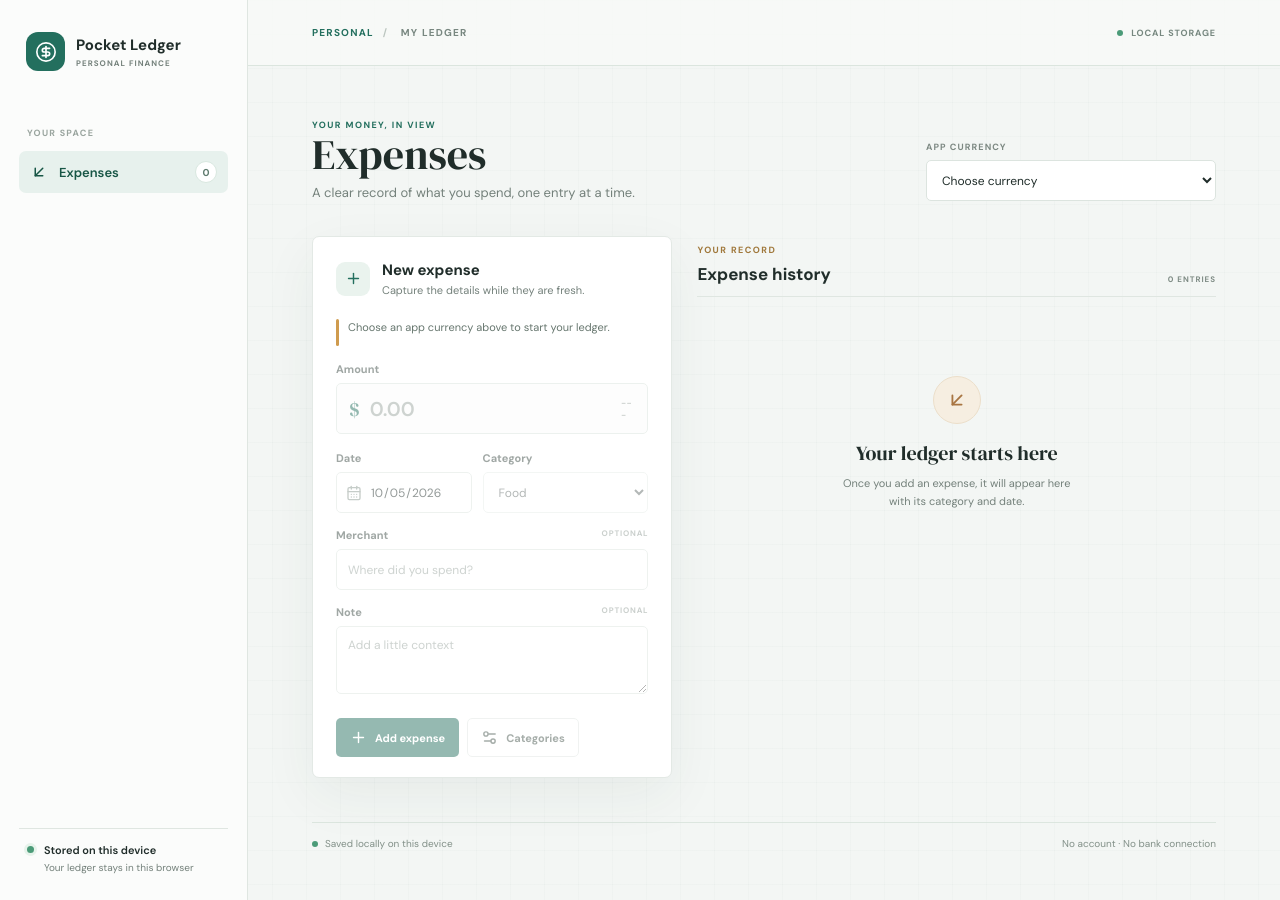
it: expense capture controls › saves an expense when merchant and note are omitted
Select "US Dollar (USD)" in the dropdown labelled "APP CURRENCY" at [1071, 181], box [926,160,1216,201]
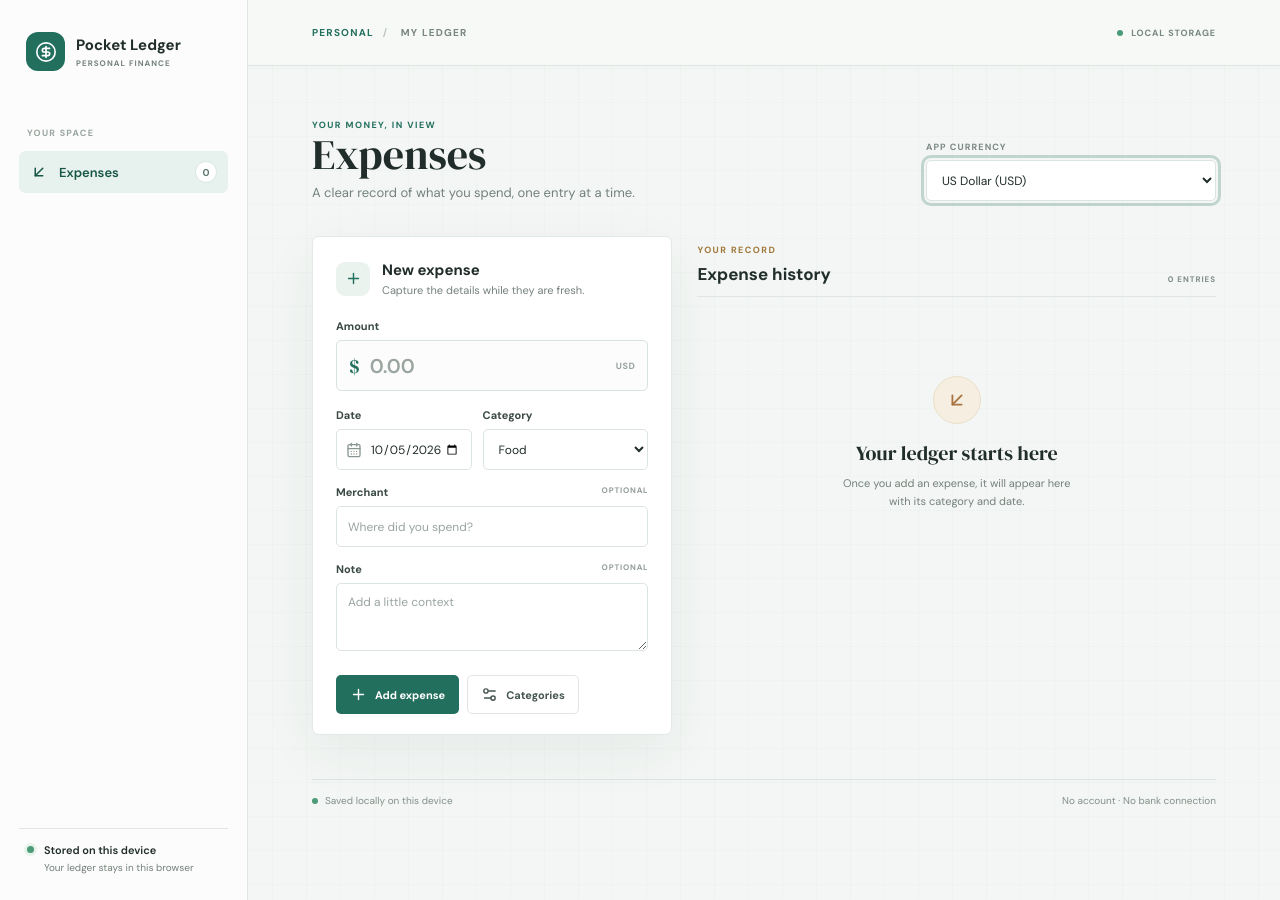
Type "3.00" into the number field labelled "Amount" at [488, 366], box [370,342,606,389]
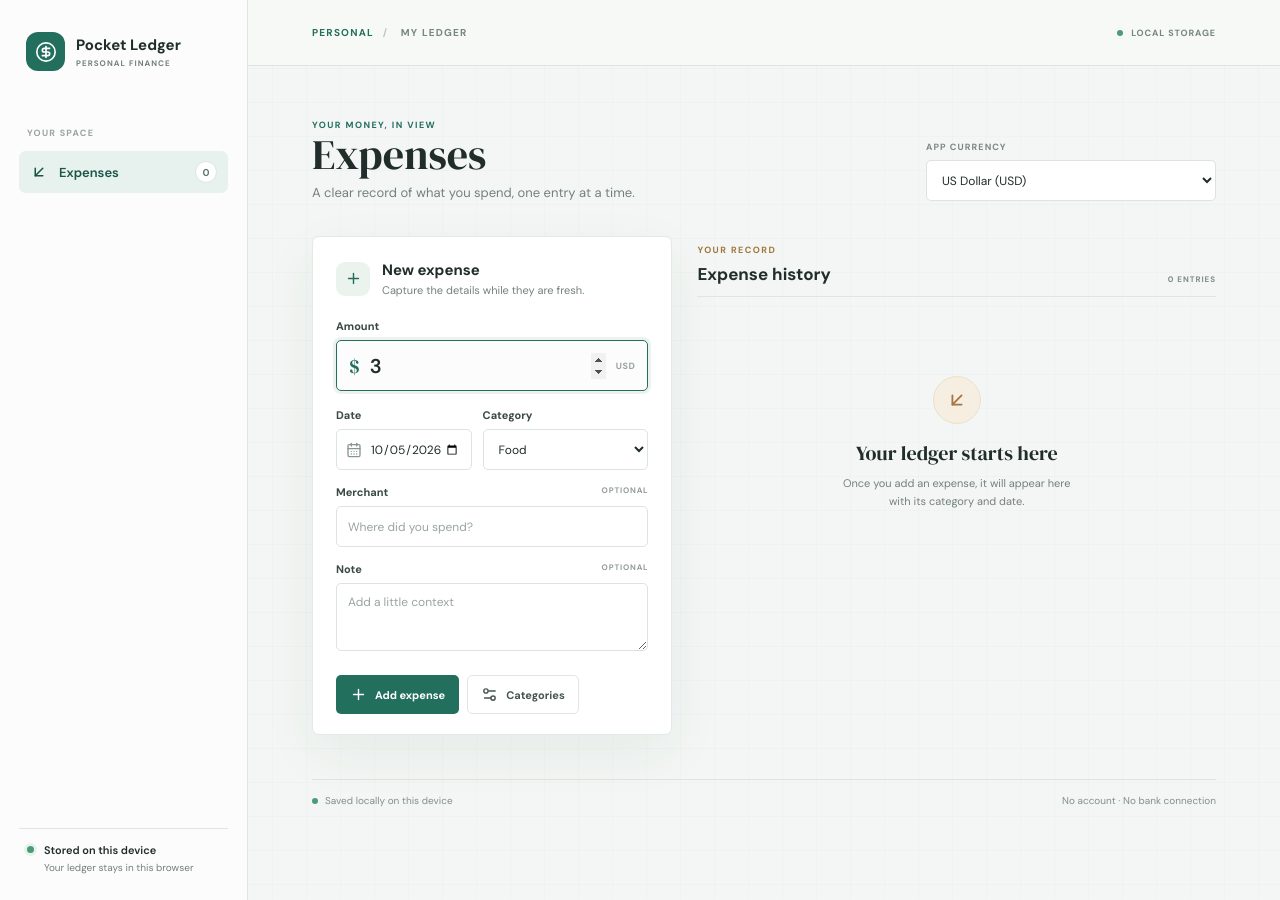
Click the button "Add expense" at [398, 695], box [336,675,459,714]
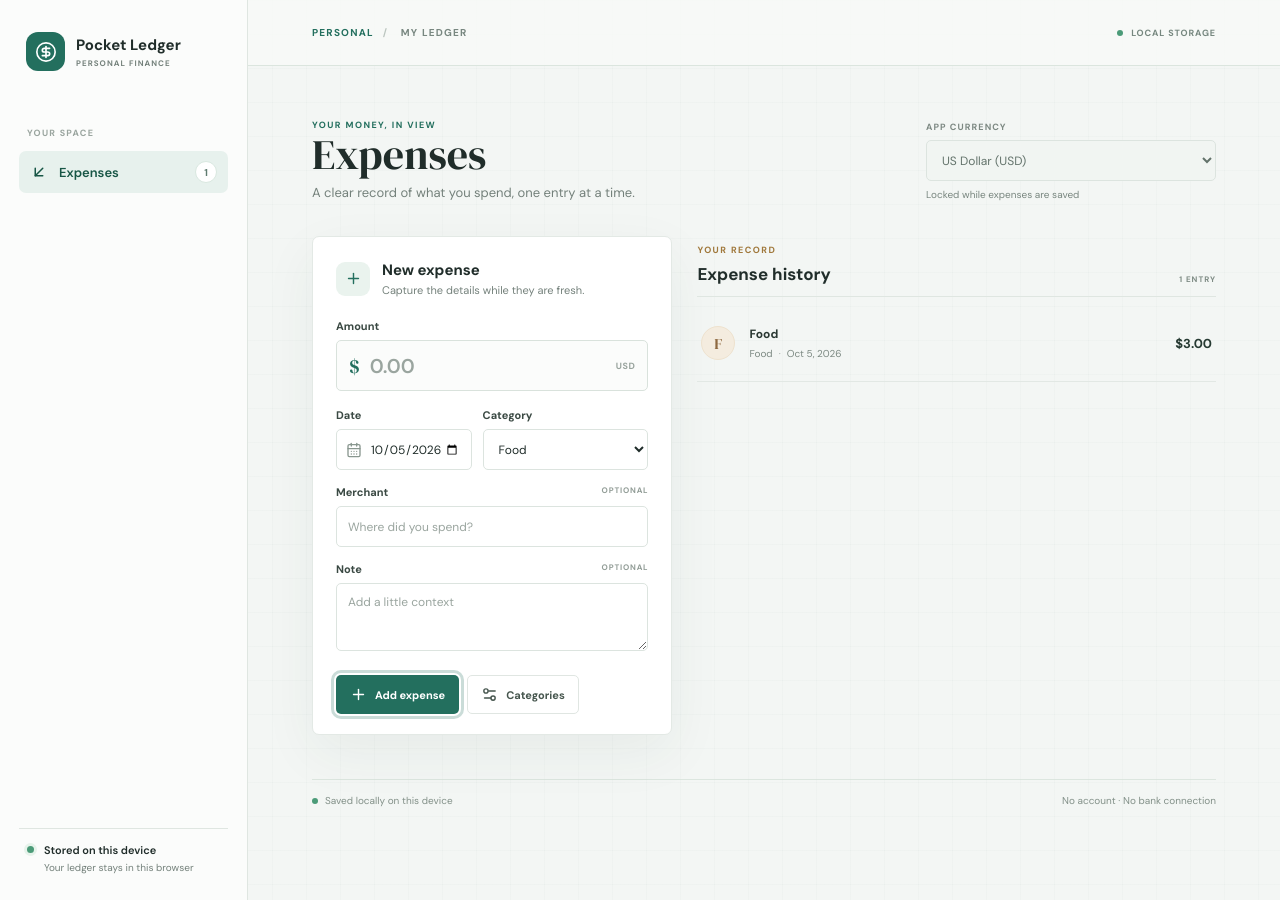
Result: the element showing "F Food Food · Oct 5, 2026 $3.00" is shown at [697,305,1216,382]
